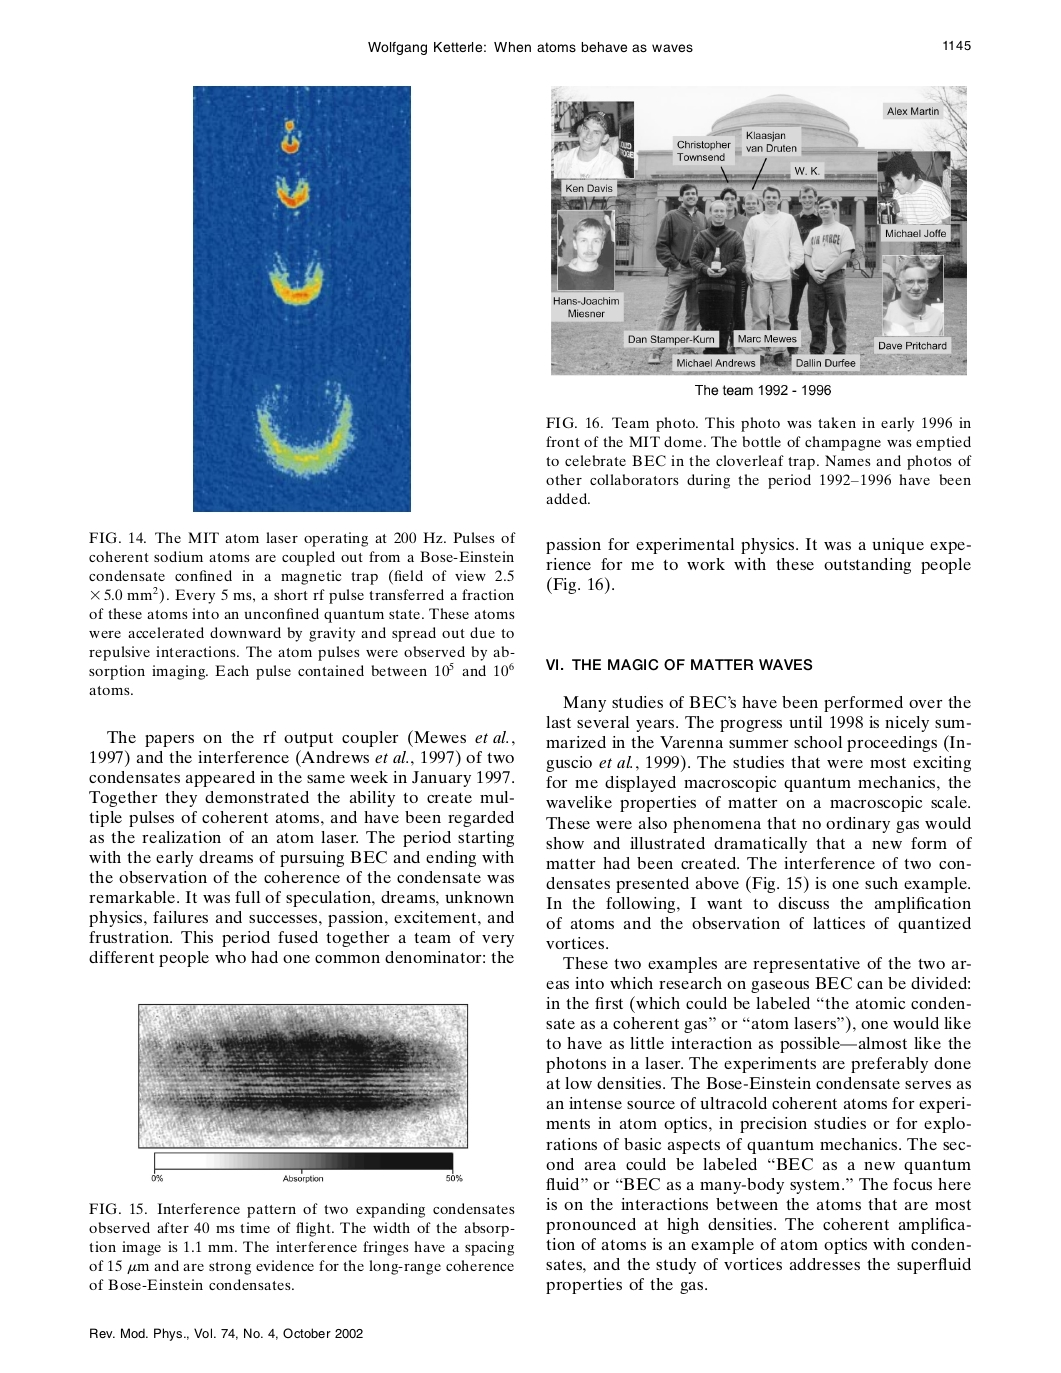figure: (551, 85, 966, 376), (193, 85, 410, 512), (138, 1002, 468, 1184)
